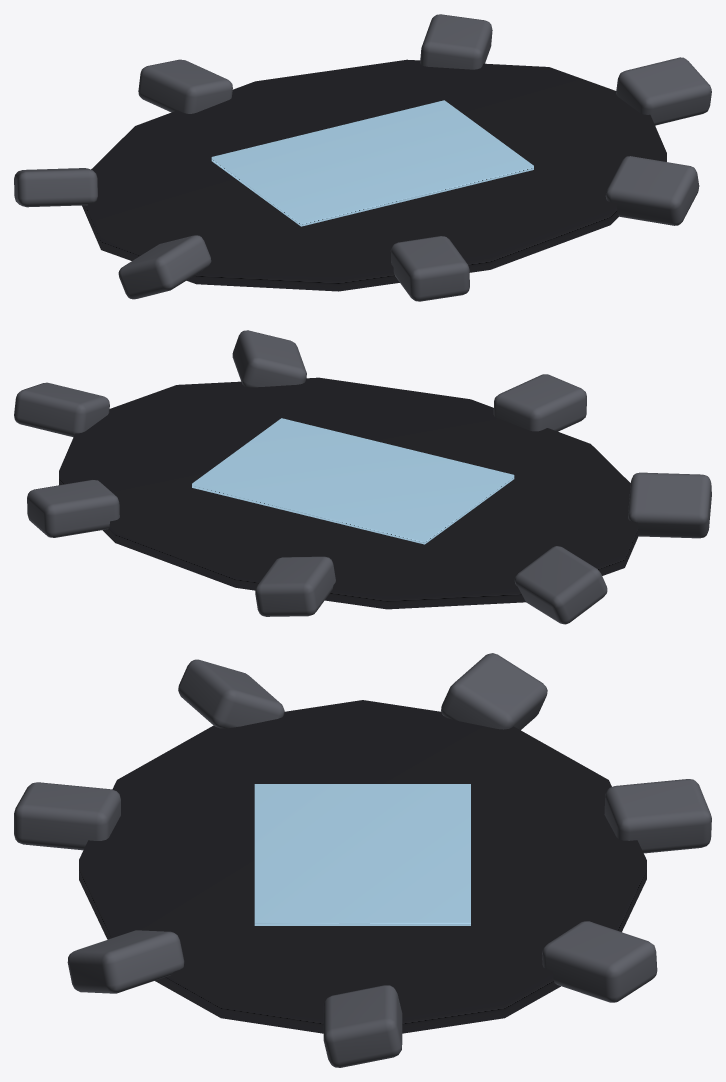
The model's file is pothole.glb.
The picture shows the model from 3 angles, top to bottom: view 1: azimuth 30°, elevation 25°; view 2: azimuth 150°, elevation 25°; view 3: azimuth 270°, elevation 25°; orthographic projection. The views are drawn at different scales.
Parts seen in each view (by area): view 1: Pothole; view 2: Pothole; view 3: Pothole.
Boxes of the visible parts, x1,y1,x2,y2 form: Pothole: (14, 14, 711, 301); Pothole: (14, 330, 711, 624); Pothole: (14, 653, 711, 1067).
Size of the model in its own units: 1.62 by 0.1199 by 1.29.
